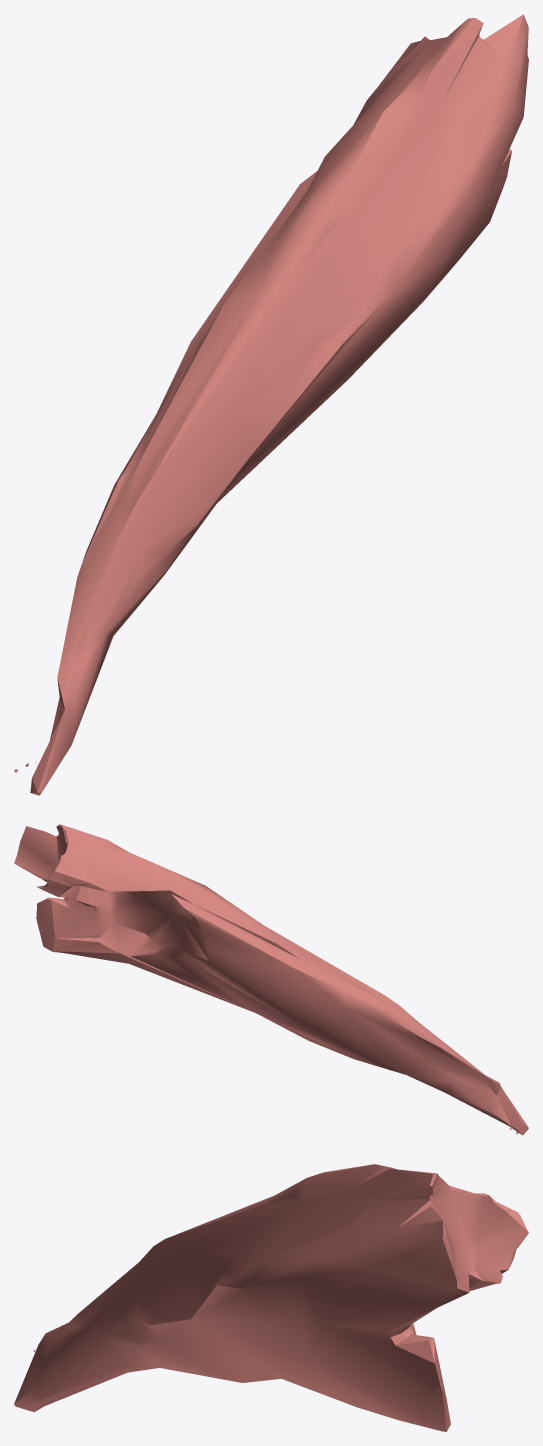
The model's file is fma46121_fj1481.glb.
The picture shows the model from 3 angles, top to bottom: view 1: azimuth 30°, elevation 25°; view 2: azimuth 150°, elevation 25°; view 3: azimuth 270°, elevation 25°; orthographic projection. The views are drawn at different scales.
Parts seen in each view (by area): view 1: FMA46121_FJ1481; view 2: FMA46121_FJ1481; view 3: FMA46121_FJ1481.
Boxes of the visible parts, bbox=[...] form: FMA46121_FJ1481: bbox=[14, 14, 528, 795]; FMA46121_FJ1481: bbox=[14, 824, 528, 1135]; FMA46121_FJ1481: bbox=[14, 1164, 528, 1431].
Size of the model in its own units: 0.0428 by 0.03 by 0.0239.
